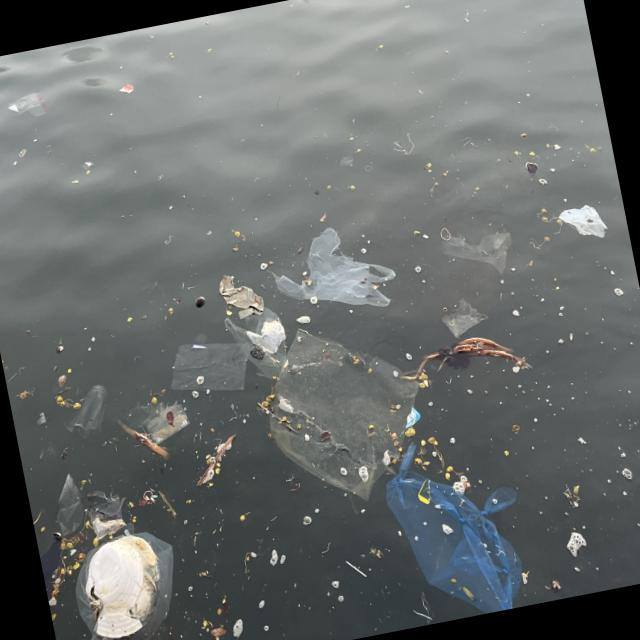foam: (78, 537, 156, 640)
plastic bag: (261, 326, 426, 496), (390, 443, 521, 611), (280, 231, 398, 312), (223, 297, 289, 382)
